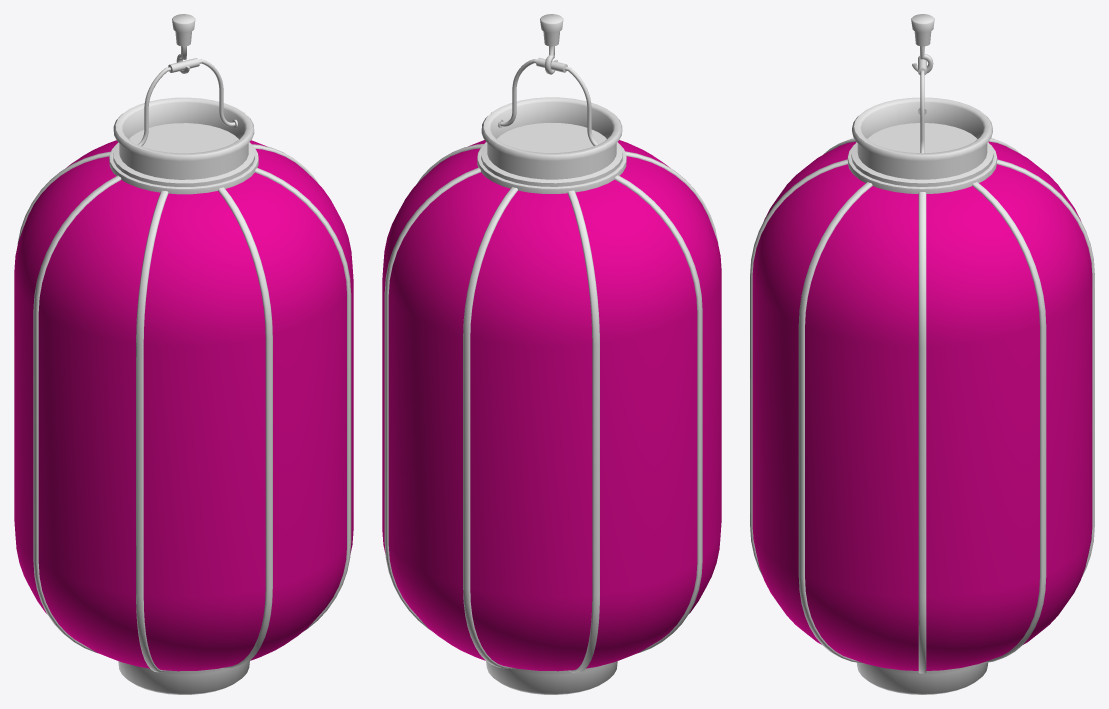
The model's file is Big_Chochin_M.fbx.
The picture shows the model from 3 angles, left to right: view 1: azimuth 30°, elevation 25°; view 2: azimuth 150°, elevation 25°; view 3: azimuth 270°, elevation 25°; orthographic projection.
Parts seen in each view (by area): view 1: Big_Chochin_M; view 2: Big_Chochin_M; view 3: Big_Chochin_M.
Part boxes in pixels (x1=…): Big_Chochin_M: x1=14, y1=14, x2=353, y2=694; Big_Chochin_M: x1=382, y1=14, x2=721, y2=694; Big_Chochin_M: x1=750, y1=14, x2=1094, y2=694.
Bounding box in the file's own units: 35.36 × 73.61 × 35.36.
